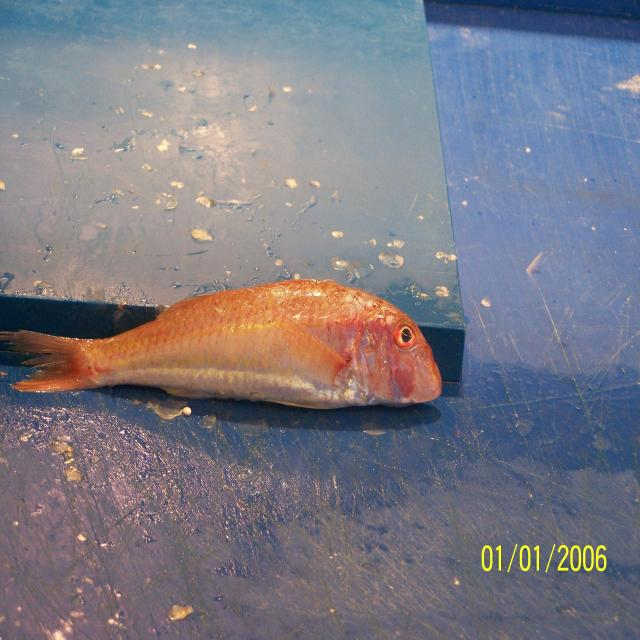Striped-Red-Mullet-tekir-: (0, 278, 444, 411)
